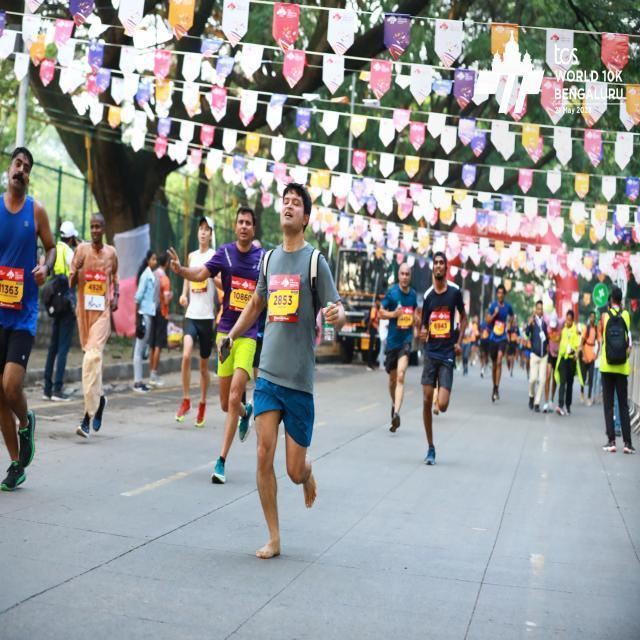dorsal: (267, 272, 301, 326), (229, 271, 256, 317), (429, 310, 452, 340), (84, 268, 105, 298)
